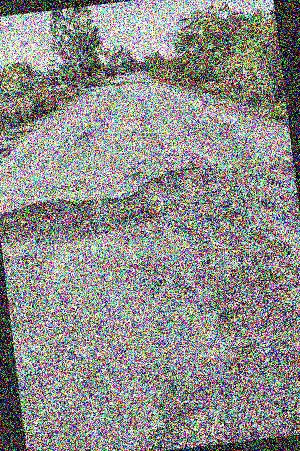pothole: (0, 189, 130, 253), (133, 157, 216, 227)
